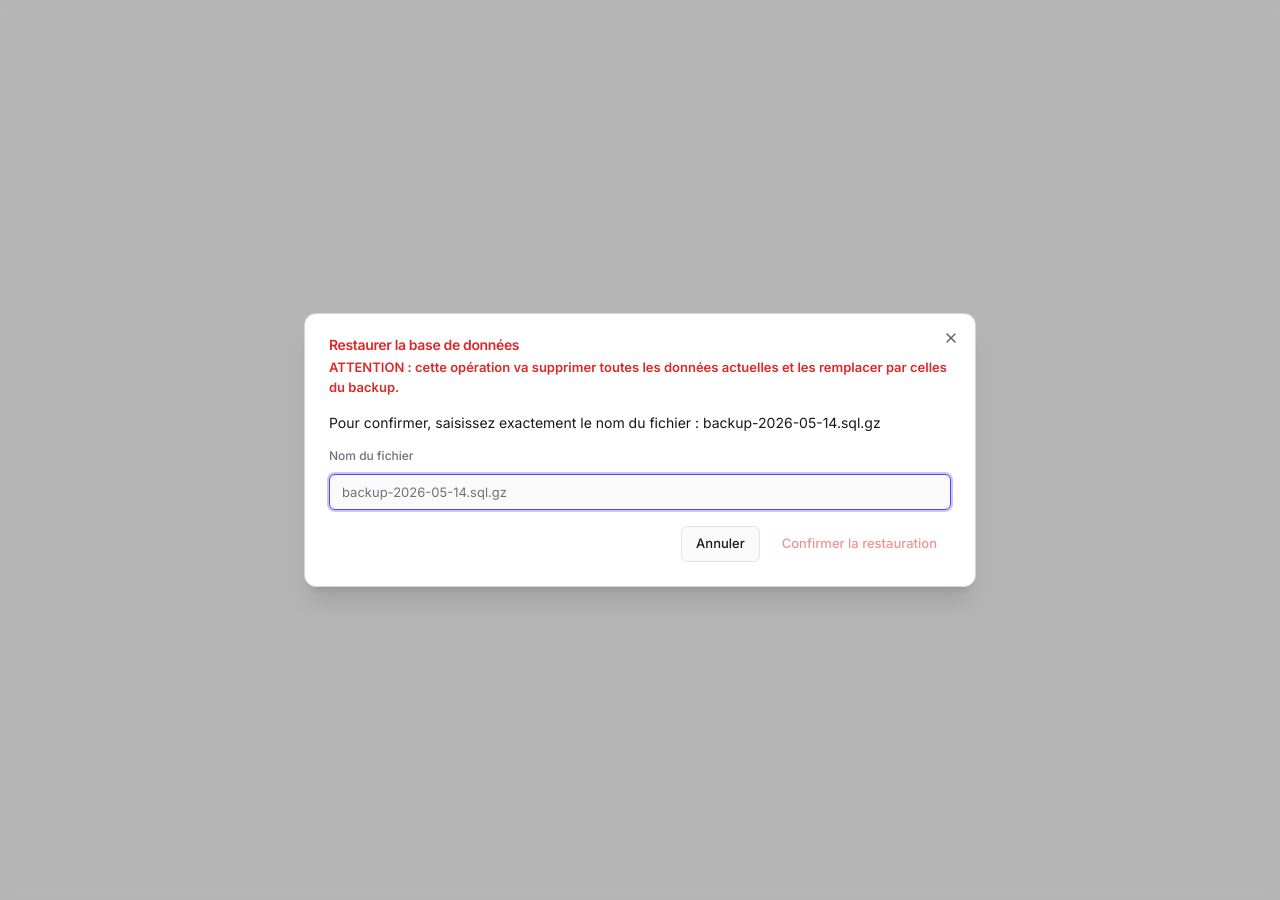
Test case: RestoreConfirmDialog › disables confirm button until filename is typed exactly
Expected: the button "Confirmer la restauration" is disabled, [768,526,951,562]
In the field labelled "Nom du fichier": (640, 492) [329,474,951,510], type "wrong.sql.gz"
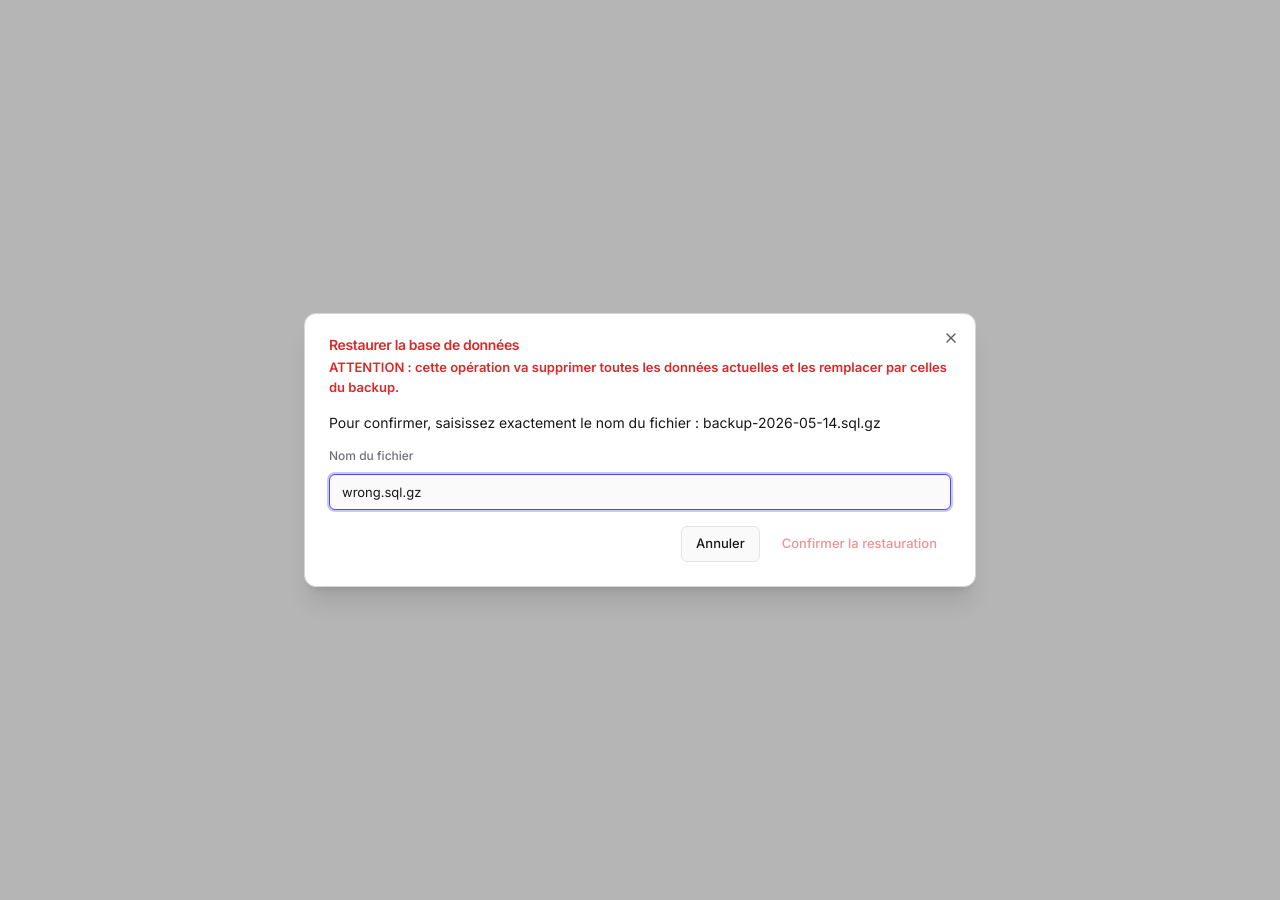
Expected: the button "Confirmer la restauration" is disabled, [768,526,951,562]
Replace the text in the field labelled "Nom du fichier" with "backup-2026-05-14.sql.gz": (640, 492) [329,474,951,510]
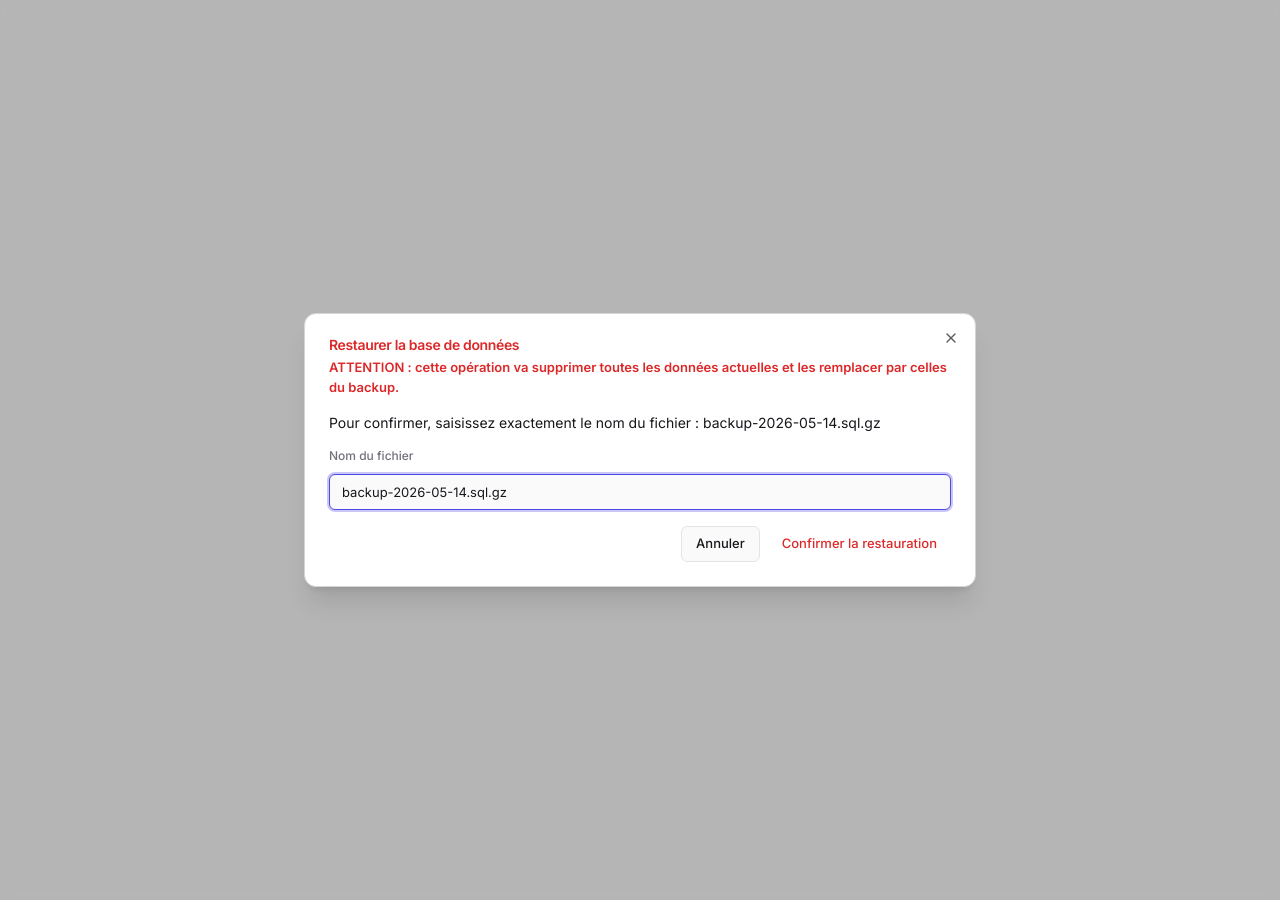
Result: the button "Confirmer la restauration" is enabled at [768,526,951,562]
